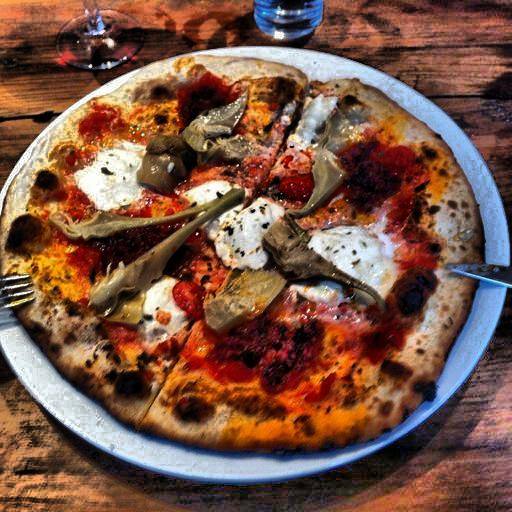pizza: (11, 66, 512, 512)
